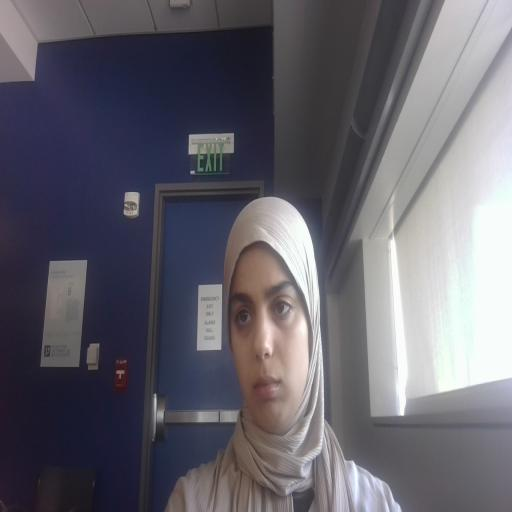lookingdownatphone: (229, 243, 310, 433)
